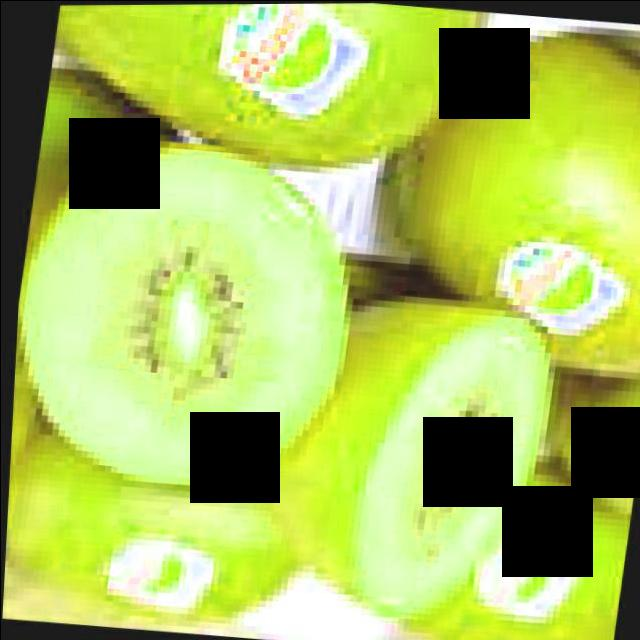kiwi: (367, 43, 640, 376), (37, 4, 446, 166), (3, 442, 298, 636), (357, 479, 627, 640)
